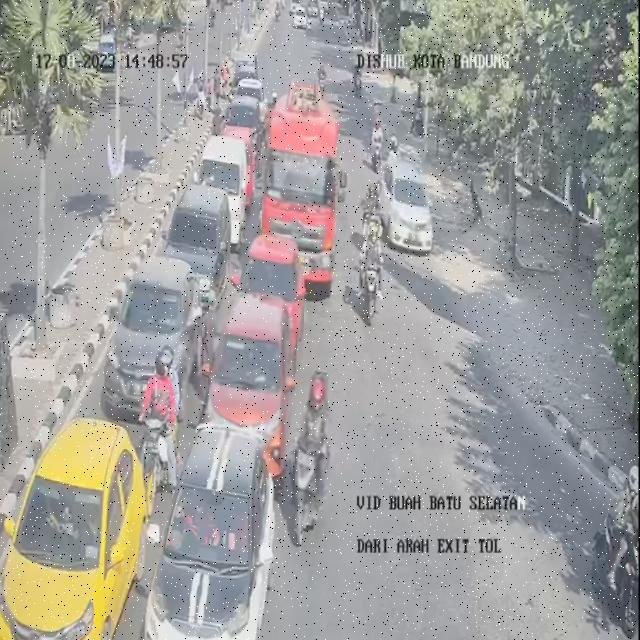cars: (0, 411, 140, 639), (151, 422, 282, 640), (112, 254, 202, 416), (210, 293, 296, 459), (168, 183, 229, 309), (242, 235, 304, 340), (199, 135, 252, 239), (383, 154, 429, 253), (228, 90, 265, 150)
motorcycle: (296, 374, 336, 525), (142, 346, 182, 466), (357, 220, 382, 320), (361, 180, 384, 250), (368, 113, 386, 173)
truck: (262, 105, 335, 284)
